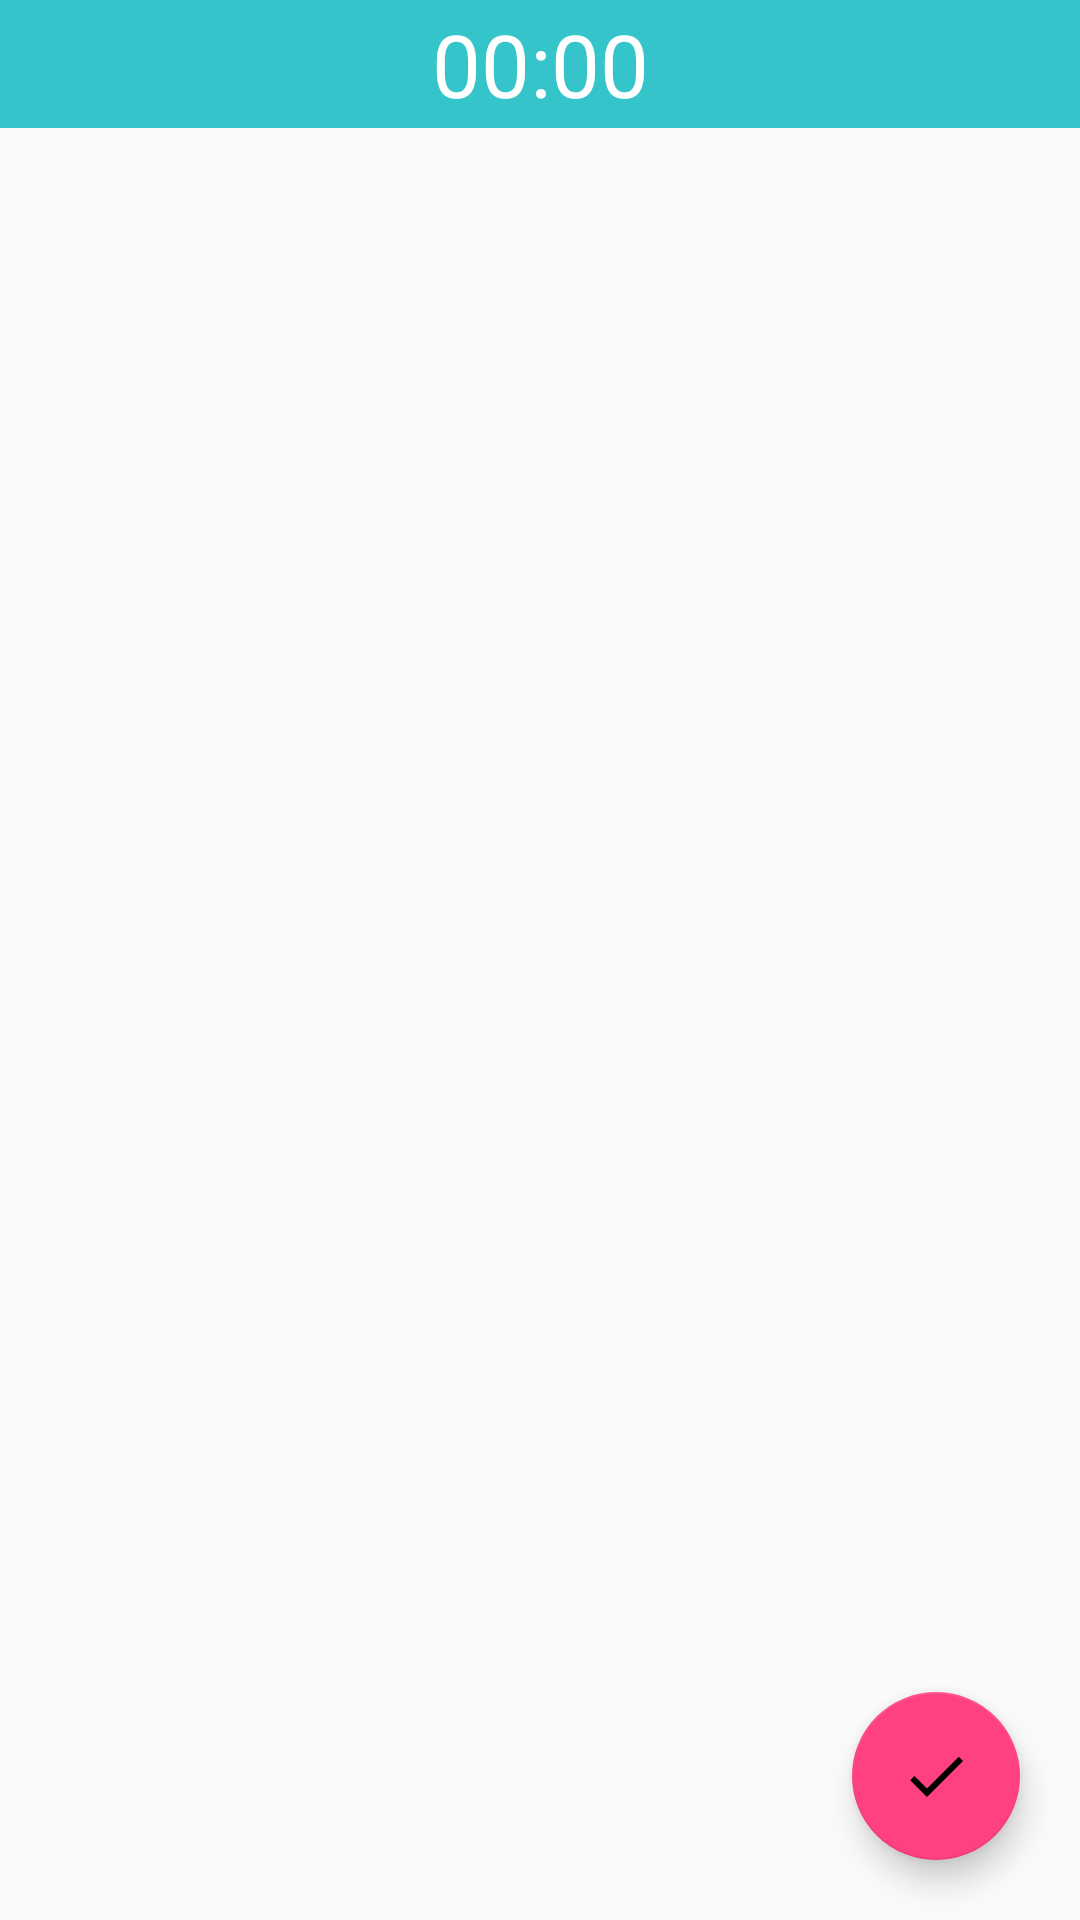

Named icons in this screenshot (1080 x 1920) and their bounding boxes, (x1, y1, x2, y2):
done question: (852, 1692, 1020, 1860)
